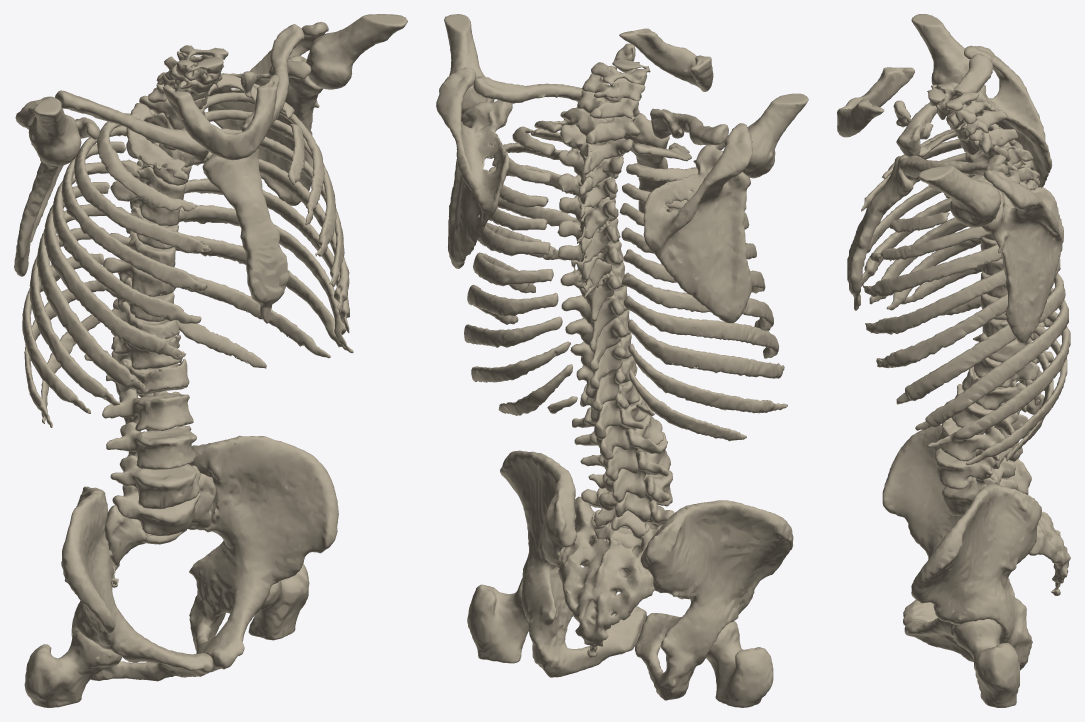
File: tsd_s0196_older_adult_female.skeletal.LOD1.glb
3 renders of one model, left to right at view 1: azimuth 30°, elevation 25°; view 2: azimuth 150°, elevation 25°; view 3: azimuth 270°, elevation 25°, orthographic. The views are drawn at different scales.
Parts seen in each view (by area): view 1: TSD_S0196.OLDER_ADULT.FEMALE.SKELETAL.HIP_BONE_OS_COXAE.L, TSD_S0196.OLDER_ADULT.FEMALE.SKELETAL.HIP_BONE_OS_COXAE.R, TSD_S0196.OLDER_ADULT.FEMALE.SKELETAL.STERNUM, TSD_S0196.OLDER_ADULT.FEMALE.SKELETAL.SCAPULA.L, TSD_S0196.OLDER_ADULT.FEMALE.SKELETAL.FEMUR.R, TSD_S0196.OLDER_ADULT.FEMALE.SKELETAL.SKULL, TSD_S0196.OLDER_ADULT.FEMALE.SKELETAL.HUMERUS.L, TSD_S0196.OLDER_ADULT.FEMALE.SKELETAL.RIB_6.R, TSD_S0196.OLDER_ADULT.FEMALE.SKELETAL.RIB_5.R, TSD_S0196.OLDER_ADULT.FEMALE.SKELETAL.RIB_7.R, TSD_S0196.OLDER_ADULT.FEMALE.SKELETAL.RIB_4.R, TSD_S0196.OLDER_ADULT.FEMALE.SKELETAL.SCAPULA.R (+36 smaller); view 2: TSD_S0196.OLDER_ADULT.FEMALE.SKELETAL.HIP_BONE_OS_COXAE.R, TSD_S0196.OLDER_ADULT.FEMALE.SKELETAL.SCAPULA.R, TSD_S0196.OLDER_ADULT.FEMALE.SKELETAL.HIP_BONE_OS_COXAE.L, TSD_S0196.OLDER_ADULT.FEMALE.SKELETAL.SCAPULA.L, TSD_S0196.OLDER_ADULT.FEMALE.SKELETAL.SACRUM, TSD_S0196.OLDER_ADULT.FEMALE.SKELETAL.FEMUR.L, TSD_S0196.OLDER_ADULT.FEMALE.SKELETAL.FEMUR.R, TSD_S0196.OLDER_ADULT.FEMALE.SKELETAL.SKULL, TSD_S0196.OLDER_ADULT.FEMALE.SKELETAL.RIB_8.R, TSD_S0196.OLDER_ADULT.FEMALE.SKELETAL.RIB_9.R, TSD_S0196.OLDER_ADULT.FEMALE.SKELETAL.HUMERUS.R, TSD_S0196.OLDER_ADULT.FEMALE.SKELETAL.RIB_10.R (+41 smaller); view 3: TSD_S0196.OLDER_ADULT.FEMALE.SKELETAL.HIP_BONE_OS_COXAE.L, TSD_S0196.OLDER_ADULT.FEMALE.SKELETAL.SCAPULA.L, TSD_S0196.OLDER_ADULT.FEMALE.SKELETAL.HIP_BONE_OS_COXAE.R, TSD_S0196.OLDER_ADULT.FEMALE.SKELETAL.SCAPULA.R, TSD_S0196.OLDER_ADULT.FEMALE.SKELETAL.FEMUR.L, TSD_S0196.OLDER_ADULT.FEMALE.SKELETAL.RIB_8.L, TSD_S0196.OLDER_ADULT.FEMALE.SKELETAL.HUMERUS.L, TSD_S0196.OLDER_ADULT.FEMALE.SKELETAL.RIB_7.L, TSD_S0196.OLDER_ADULT.FEMALE.SKELETAL.STERNUM, TSD_S0196.OLDER_ADULT.FEMALE.SKELETAL.SKULL, TSD_S0196.OLDER_ADULT.FEMALE.SKELETAL.RIB_9.L, TSD_S0196.OLDER_ADULT.FEMALE.SKELETAL.RIB_6.L (+29 smaller).
Boxes of the visible parts, x1,y1,x2,y2 form: TSD_S0196.OLDER_ADULT.FEMALE.SKELETAL.HIP_BONE_OS_COXAE.L: (189,435,338,672); TSD_S0196.OLDER_ADULT.FEMALE.SKELETAL.HIP_BONE_OS_COXAE.R: (61,486,213,681); TSD_S0196.OLDER_ADULT.FEMALE.SKELETAL.STERNUM: (202,148,289,323); TSD_S0196.OLDER_ADULT.FEMALE.SKELETAL.SCAPULA.L: (208,21,328,205); TSD_S0196.OLDER_ADULT.FEMALE.SKELETAL.FEMUR.R: (24,630,121,707); TSD_S0196.OLDER_ADULT.FEMALE.SKELETAL.SKULL: (162,71,279,160); TSD_S0196.OLDER_ADULT.FEMALE.SKELETAL.HUMERUS.L: (306,14,407,89); TSD_S0196.OLDER_ADULT.FEMALE.SKELETAL.RIB_6.R: (44,182,185,359); TSD_S0196.OLDER_ADULT.FEMALE.SKELETAL.RIB_5.R: (52,162,201,323); TSD_S0196.OLDER_ADULT.FEMALE.SKELETAL.RIB_7.R: (36,204,145,394); TSD_S0196.OLDER_ADULT.FEMALE.SKELETAL.RIB_4.R: (61,141,207,291); TSD_S0196.OLDER_ADULT.FEMALE.SKELETAL.SCAPULA.R: (14,96,99,276); TSD_S0196.OLDER_ADULT.FEMALE.SKELETAL.HIP_BONE_OS_COXAE.R: (635,500,793,700); TSD_S0196.OLDER_ADULT.FEMALE.SKELETAL.SCAPULA.R: (643,123,752,323); TSD_S0196.OLDER_ADULT.FEMALE.SKELETAL.HIP_BONE_OS_COXAE.L: (500,450,646,677); TSD_S0196.OLDER_ADULT.FEMALE.SKELETAL.SCAPULA.L: (436,67,512,268); TSD_S0196.OLDER_ADULT.FEMALE.SKELETAL.SACRUM: (558,496,663,657); TSD_S0196.OLDER_ADULT.FEMALE.SKELETAL.FEMUR.L: (467,578,528,663); TSD_S0196.OLDER_ADULT.FEMALE.SKELETAL.FEMUR.R: (706,621,773,707); TSD_S0196.OLDER_ADULT.FEMALE.SKELETAL.SKULL: (614,28,713,91); TSD_S0196.OLDER_ADULT.FEMALE.SKELETAL.RIB_8.R: (623,295,779,358); TSD_S0196.OLDER_ADULT.FEMALE.SKELETAL.RIB_9.R: (628,319,784,378); TSD_S0196.OLDER_ADULT.FEMALE.SKELETAL.HUMERUS.R: (742,93,808,178); TSD_S0196.OLDER_ADULT.FEMALE.SKELETAL.RIB_10.R: (628,343,787,413); TSD_S0196.OLDER_ADULT.FEMALE.SKELETAL.HIP_BONE_OS_COXAE.L: (904,483,1041,670); TSD_S0196.OLDER_ADULT.FEMALE.SKELETAL.SCAPULA.L: (974,169,1063,343); TSD_S0196.OLDER_ADULT.FEMALE.SKELETAL.HIP_BONE_OS_COXAE.R: (882,424,1031,625); TSD_S0196.OLDER_ADULT.FEMALE.SKELETAL.SCAPULA.R: (949,45,1052,187); TSD_S0196.OLDER_ADULT.FEMALE.SKELETAL.FEMUR.L: (953,619,1019,707); TSD_S0196.OLDER_ADULT.FEMALE.SKELETAL.RIB_8.L: (915,287,1068,430); TSD_S0196.OLDER_ADULT.FEMALE.SKELETAL.HUMERUS.L: (918,165,1001,227); TSD_S0196.OLDER_ADULT.FEMALE.SKELETAL.RIB_7.L: (896,273,1065,404); TSD_S0196.OLDER_ADULT.FEMALE.SKELETAL.STERNUM: (847,155,916,310); TSD_S0196.OLDER_ADULT.FEMALE.SKELETAL.SKULL: (837,67,914,137); TSD_S0196.OLDER_ADULT.FEMALE.SKELETAL.RIB_9.L: (927,311,1070,447); TSD_S0196.OLDER_ADULT.FEMALE.SKELETAL.RIB_6.L: (876,258,1060,368).
Bounding box in the file's own units: 0.349 × 0.551 × 0.2075.
